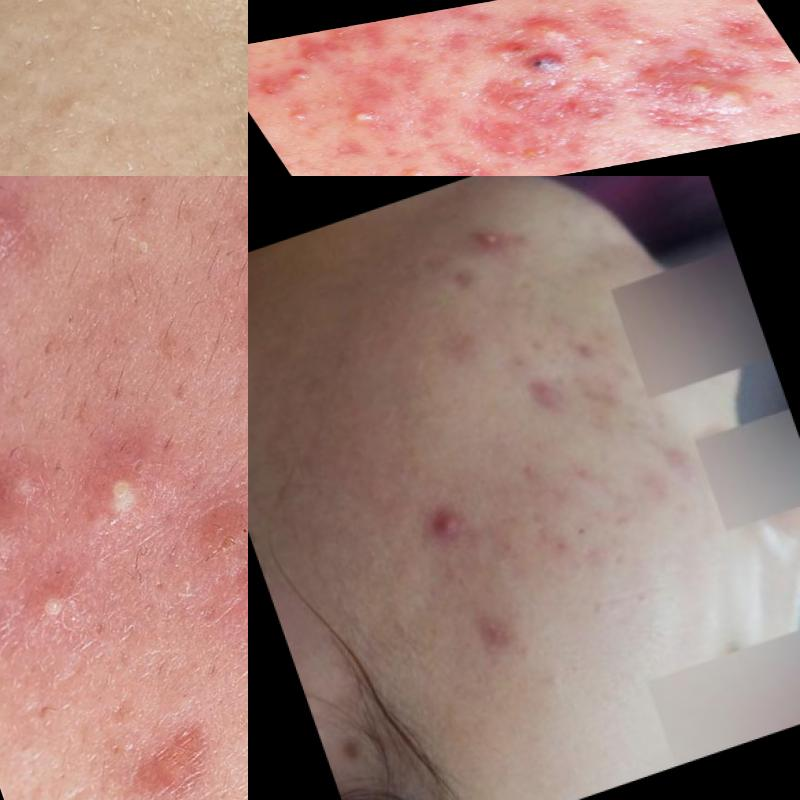acne_scars: (89, 680, 246, 800), (471, 78, 597, 132), (507, 358, 574, 427), (618, 45, 725, 85), (708, 10, 790, 61), (456, 111, 527, 161), (461, 601, 517, 659), (755, 54, 800, 86)
keloid: (388, 162, 434, 177)
papular: (393, 484, 471, 575), (452, 197, 528, 288), (576, 47, 616, 68), (518, 141, 553, 161), (506, 73, 529, 87)
purulent: (56, 434, 190, 548), (7, 560, 99, 661), (60, 177, 124, 203), (330, 104, 384, 130), (715, 90, 753, 112), (681, 78, 719, 97), (281, 66, 317, 86)
sebo-crystan-conglo: (1, 478, 40, 597), (1, 177, 35, 294), (472, 37, 537, 62), (232, 323, 249, 405), (529, 15, 571, 48), (511, 52, 566, 75)
whitehead: (45, 74, 113, 129), (526, 654, 579, 704)
